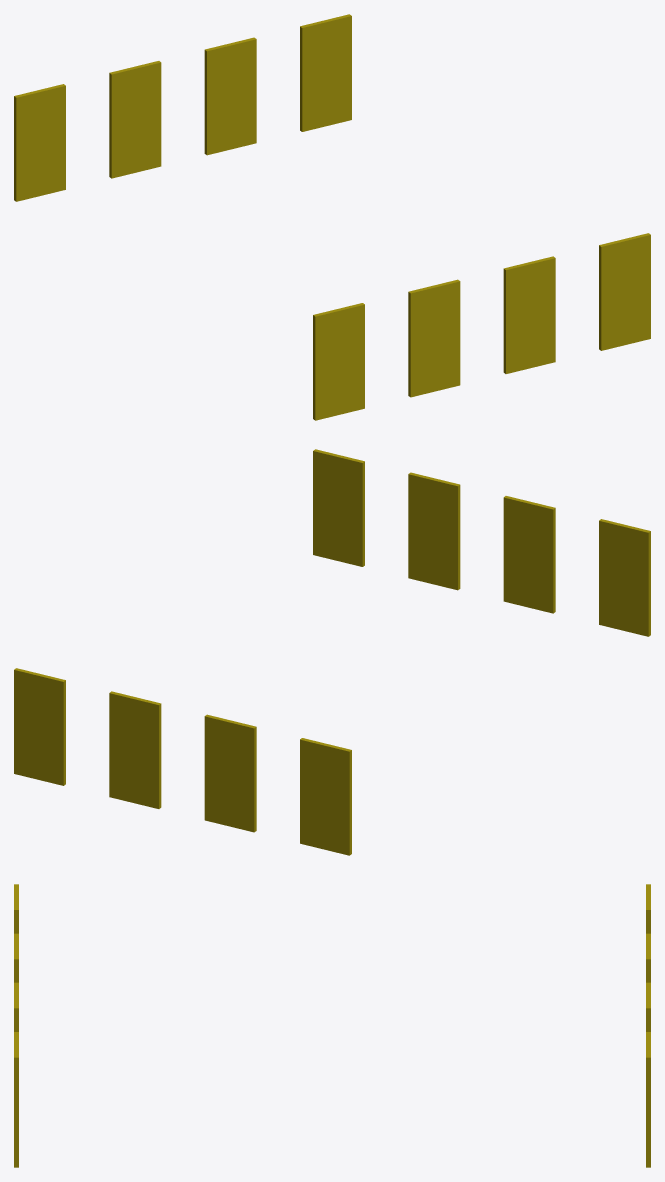
File: FirstLevelWindows.obj
The picture shows the model from 3 angles, top to bottom: view 1: azimuth 30°, elevation 25°; view 2: azimuth 150°, elevation 25°; view 3: azimuth 270°, elevation 25°; orthographic projection. The views are drawn at different scales.
Bounding box in the file's own units: 81 × 24 × 126.
Materials: 1 (1 with a texture image).
